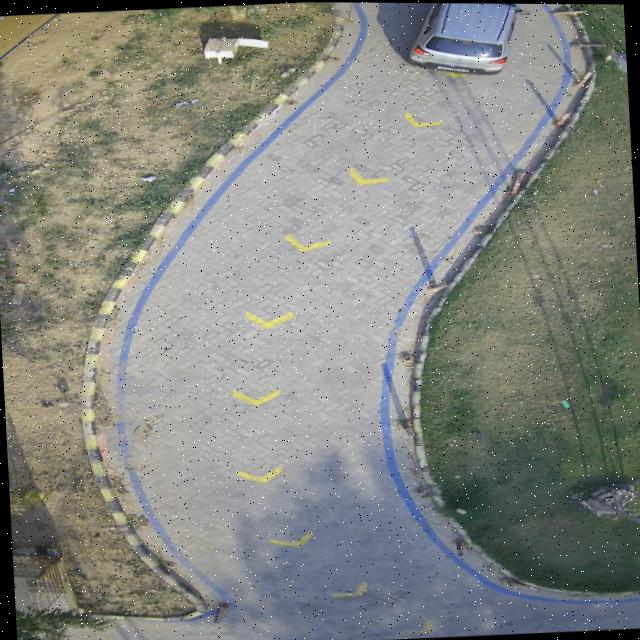car: (405, 2, 514, 72)
